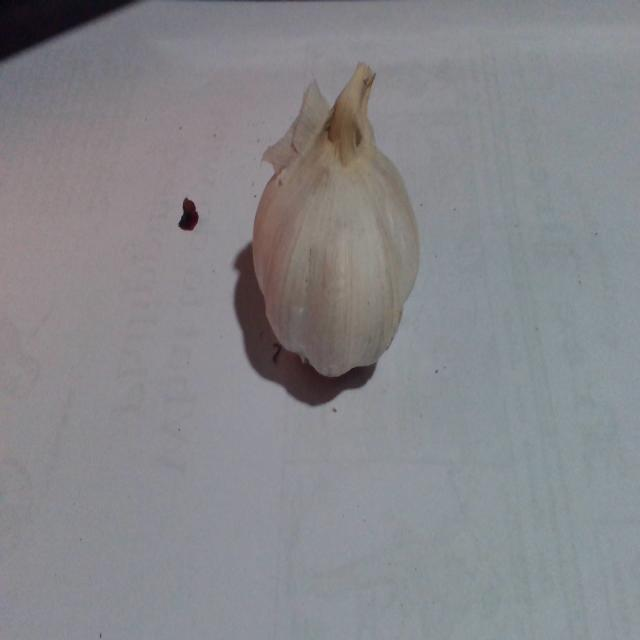garlic: (248, 113, 428, 400)
